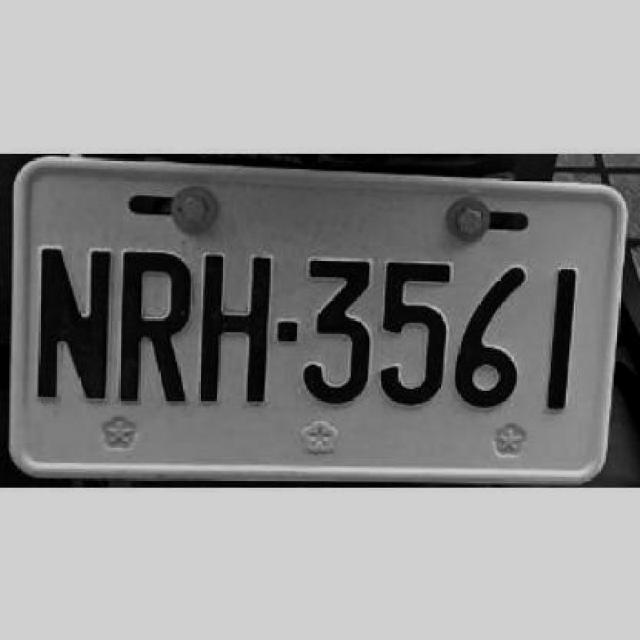-: (277, 318, 297, 344)
1: (545, 260, 580, 411)
3: (300, 246, 374, 409)
5: (376, 251, 450, 411)
6: (451, 257, 526, 412)
H: (194, 245, 275, 408)
N: (32, 238, 112, 402)
R: (115, 238, 191, 408)
